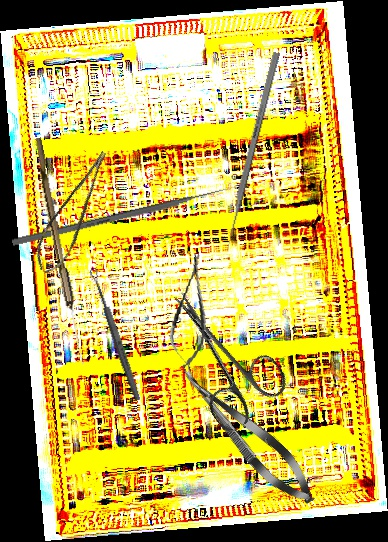Iris Scissors: (143, 271, 295, 437)
Micro Scissor: (169, 354, 325, 515), (23, 148, 129, 279), (165, 252, 217, 370)
Pusher: (11, 183, 239, 247), (222, 51, 281, 253)
Surgical Spoon: (30, 137, 89, 366), (88, 267, 143, 402)
